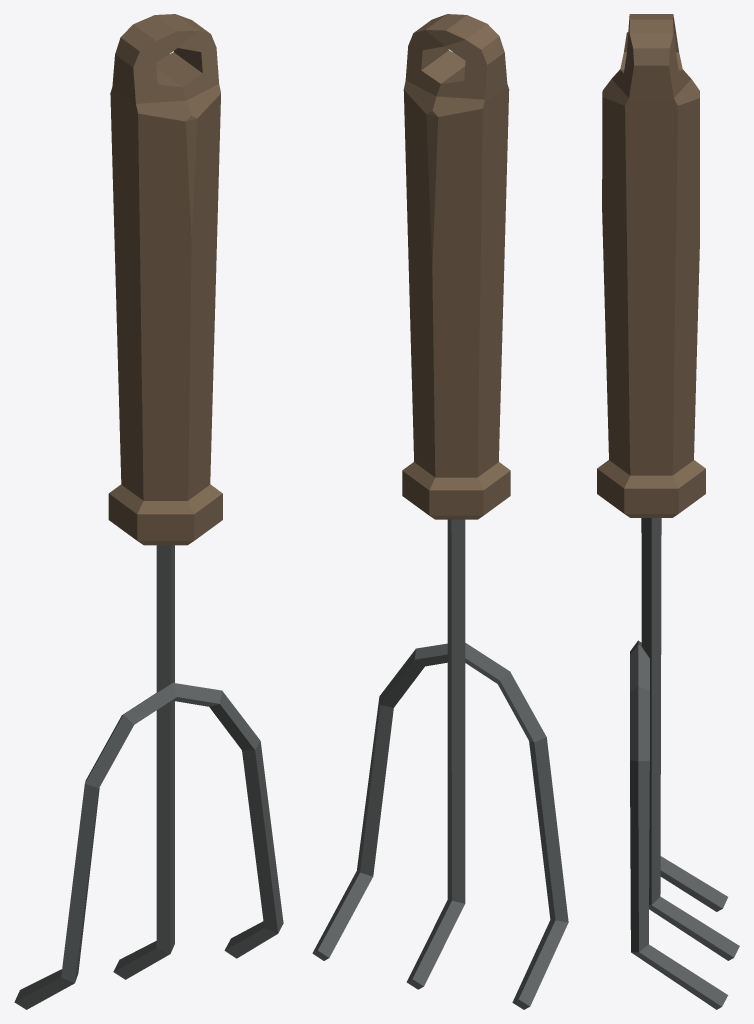
File: SM_Props_Farm_Tool_HandRake.fbx
The picture shows the model from 3 angles, left to right: view 1: azimuth 30°, elevation 25°; view 2: azimuth 150°, elevation 25°; view 3: azimuth 270°, elevation 25°; orthographic projection. The views are drawn at different scales.
Parts seen in each view (by area): view 1: SM_Props_Farm_Tool_HandRake; view 2: SM_Props_Farm_Tool_HandRake; view 3: SM_Props_Farm_Tool_HandRake.
Boxes of the visible parts, x1,y1,x2,y2 form: SM_Props_Farm_Tool_HandRake: (14, 14, 283, 1009); SM_Props_Farm_Tool_HandRake: (312, 14, 568, 1009); SM_Props_Farm_Tool_HandRake: (597, 14, 739, 1009).
Bounding box in the file's own units: 14.57 × 59.99 × 8.25.
